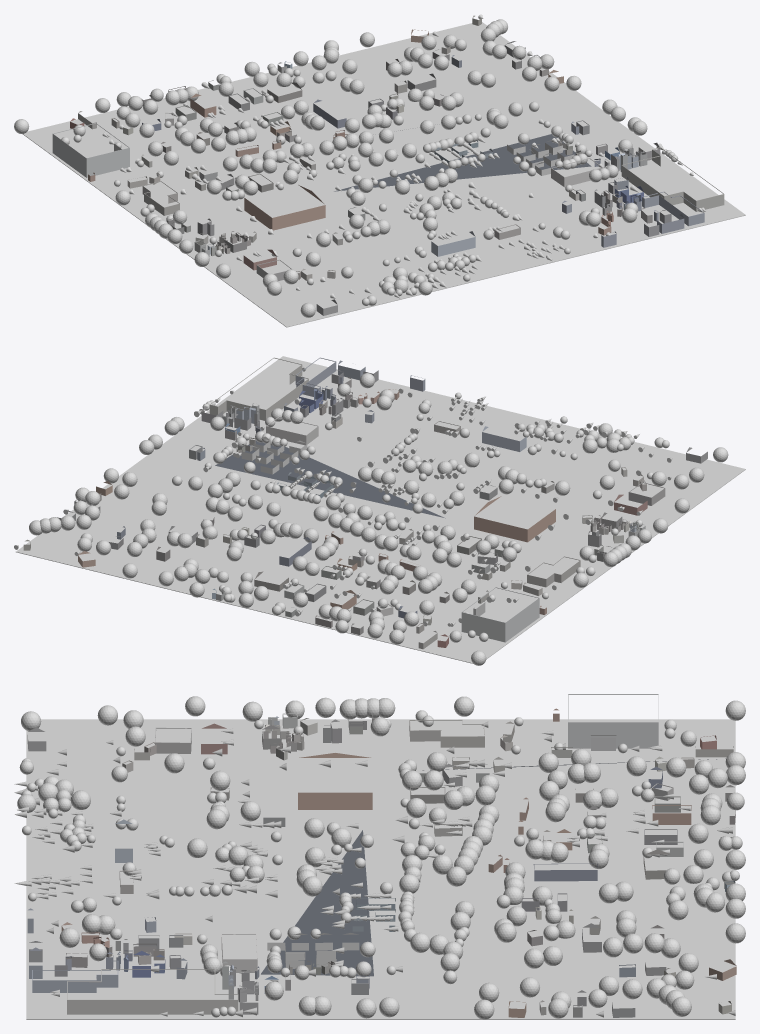
The picture shows the model from 3 angles, top to bottom: view 1: azimuth 30°, elevation 25°; view 2: azimuth 150°, elevation 25°; view 3: azimuth 270°, elevation 25°; orthographic projection. The views are drawn at different scales.
Parts seen in each view (by area): view 1: Ground_Base, Road_Corridors, BLD-003, BLD-001, BLD-002, BLD-009, BLD-006; view 2: Ground_Base, Road_Corridors, BLD-003, BLD-002, BLD-001, BLD-004, BLD-009, BLD-005, BLD-006; view 3: Ground_Base, Road_Corridors, BLD-001, BLD-003, BLD-002, BLD-009, BLD-005, BLD-012.
Boxes of the visible parts, x1=… form: Ground_Base: x1=22, y1=22, x2=745, y2=327; Road_Corridors: x1=334, y1=130, x2=591, y2=191; BLD-003: x1=52, y1=123, x2=129, y2=177; BLD-001: x1=621, y1=147, x2=724, y2=211; BLD-002: x1=244, y1=185, x2=325, y2=230; BLD-009: x1=642, y1=191, x2=704, y2=226; BLD-006: x1=431, y1=231, x2=475, y2=256; Ground_Base: x1=16, y1=356, x2=745, y2=663; Road_Corridors: x1=215, y1=440, x2=445, y2=518; BLD-003: x1=461, y1=587, x2=539, y2=642; BLD-002: x1=474, y1=496, x2=555, y2=542; BLD-001: x1=209, y1=357, x2=308, y2=420; BLD-004: x1=266, y1=417, x2=318, y2=445; BLD-009: x1=295, y1=357, x2=336, y2=396; BLD-005: x1=527, y1=556, x2=580, y2=587; BLD-006: x1=482, y1=426, x2=526, y2=451; Ground_Base: x1=26, y1=719, x2=735, y2=1019; Road_Corridors: x1=261, y1=758, x2=725, y2=976; BLD-001: x1=67, y1=969, x2=238, y2=1014; BLD-003: x1=568, y1=694, x2=658, y2=748; BLD-002: x1=298, y1=753, x2=372, y2=809; BLD-009: x1=32, y1=960, x2=118, y2=992; BLD-005: x1=409, y1=719, x2=484, y2=747; BLD-012: x1=533, y1=863, x2=597, y2=881.
Size of the model in its own units: 368 by 17.69 by 370.
